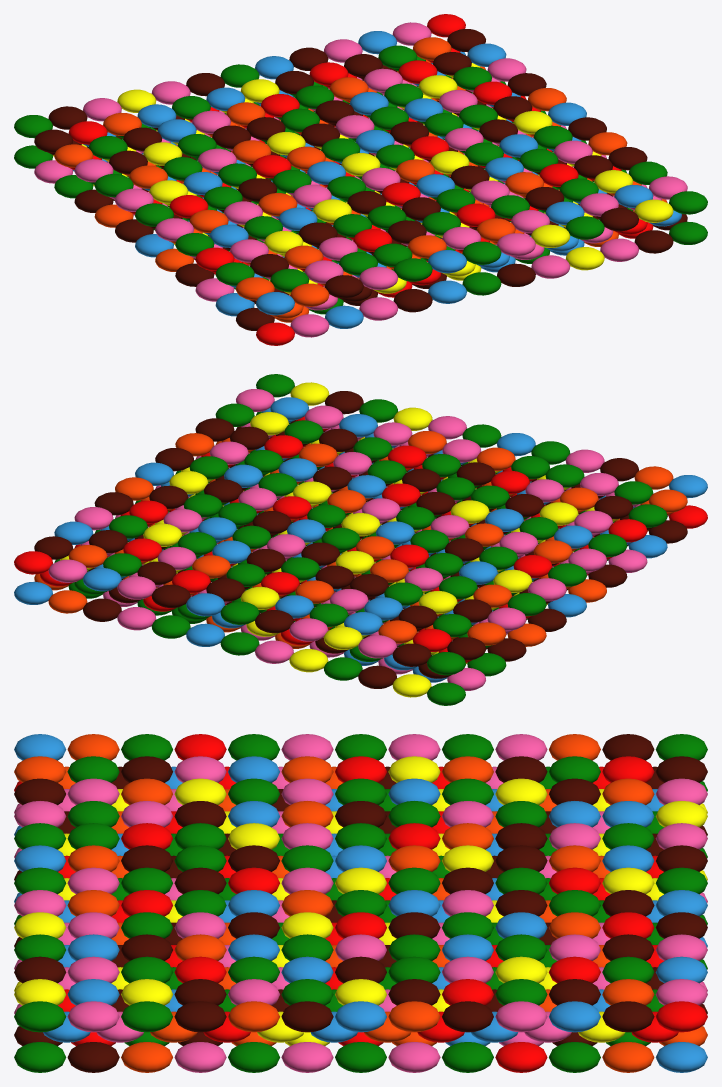
File: floor_marble.FBX
3 views of the same model, one above another, from view 1: azimuth 30°, elevation 25°; view 2: azimuth 150°, elevation 25°; view 3: azimuth 270°, elevation 25° (orthographic). The views are drawn at different scales.
Visible parts, largest first — view 1: floor_marble; view 2: floor_marble; view 3: floor_marble.
Boxes of the visible parts, bbox=[...] form: floor_marble: bbox=[14, 14, 707, 345]; floor_marble: bbox=[14, 374, 707, 705]; floor_marble: bbox=[14, 734, 707, 1072].
Size of the model in its own units: 100 by 10.09 by 102.
